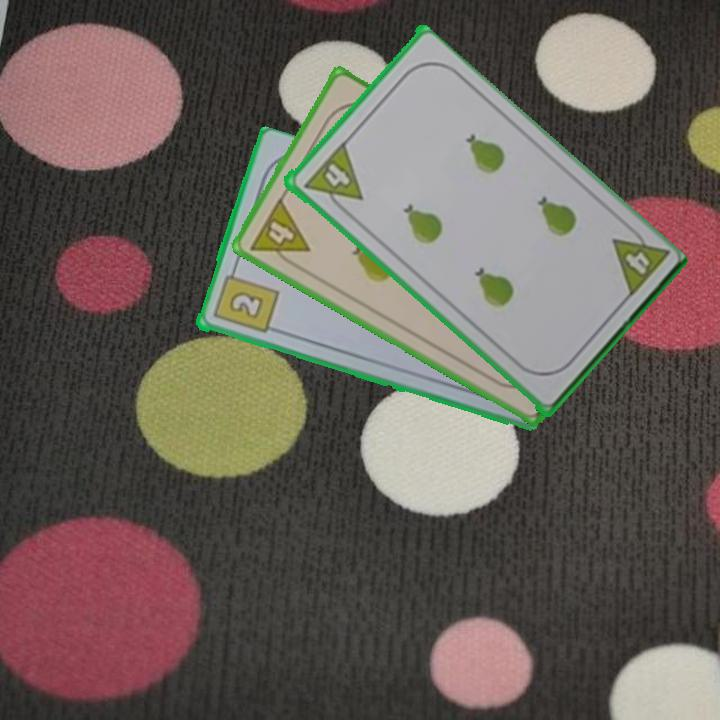2b: (209, 263, 280, 336)
4p: (607, 219, 671, 302), (246, 194, 313, 273), (299, 139, 365, 217)
